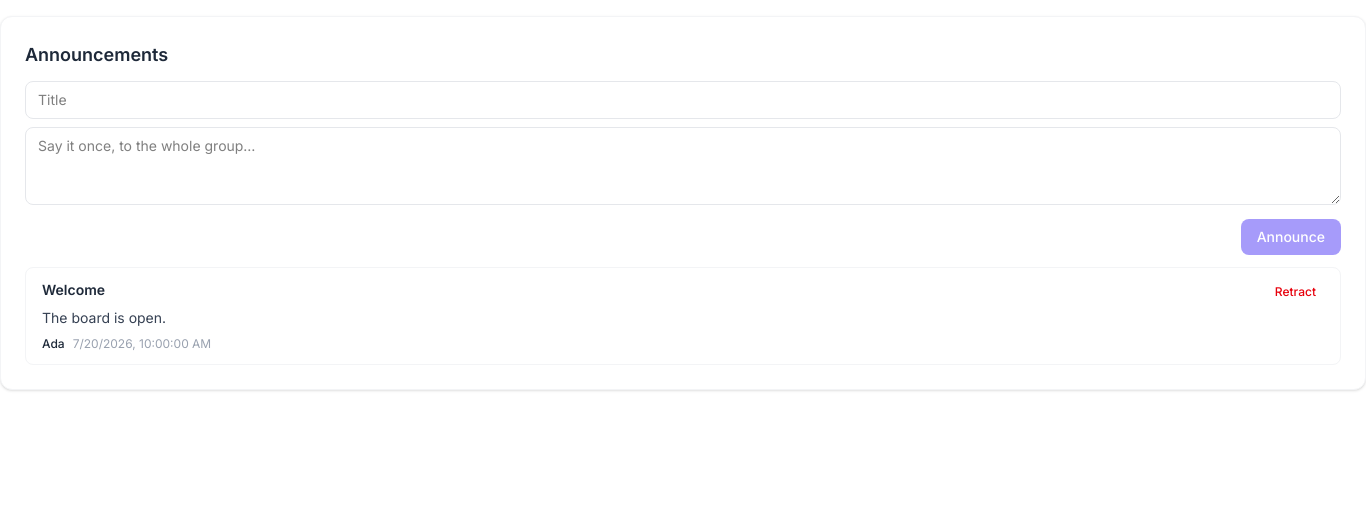
Test case: GroupAnnouncementsSection › sends and prepends the announcement from the confirmed response
The image size is (1366, 518).
expect the heading "Welcome" is shown: met, box [42, 280, 105, 300]
Step 1. Type "Fresh word" into the field with test id "announcement-compose-title" → [683, 100], box [25, 81, 1341, 119]
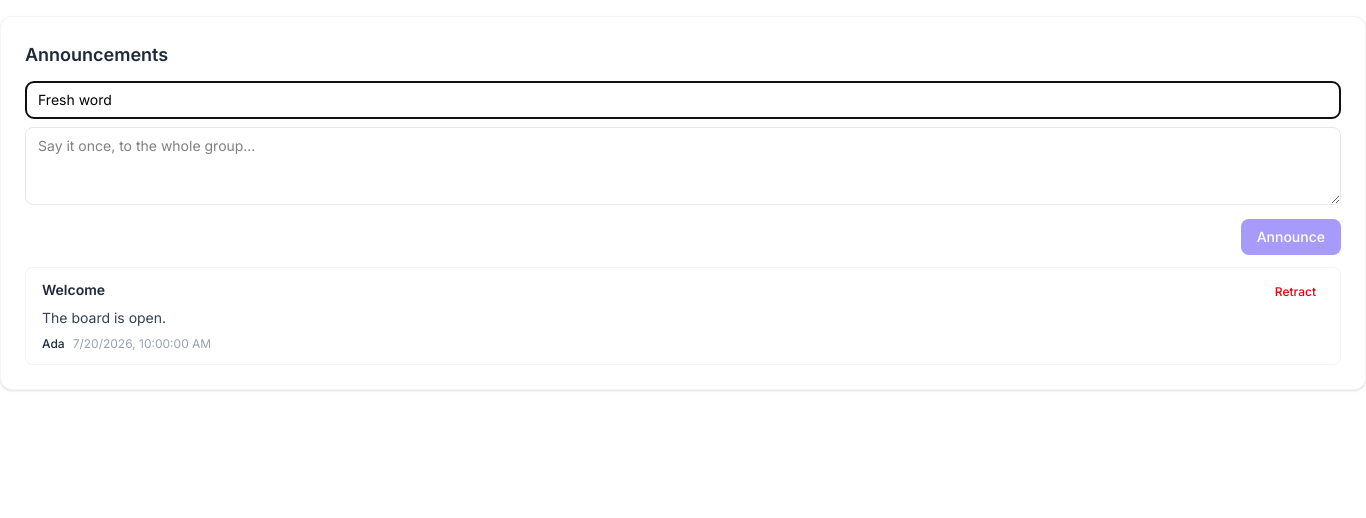
Step 2. Type "Just now." into the text box with test id "announcement-compose-body" → [683, 166], box [25, 127, 1341, 205]
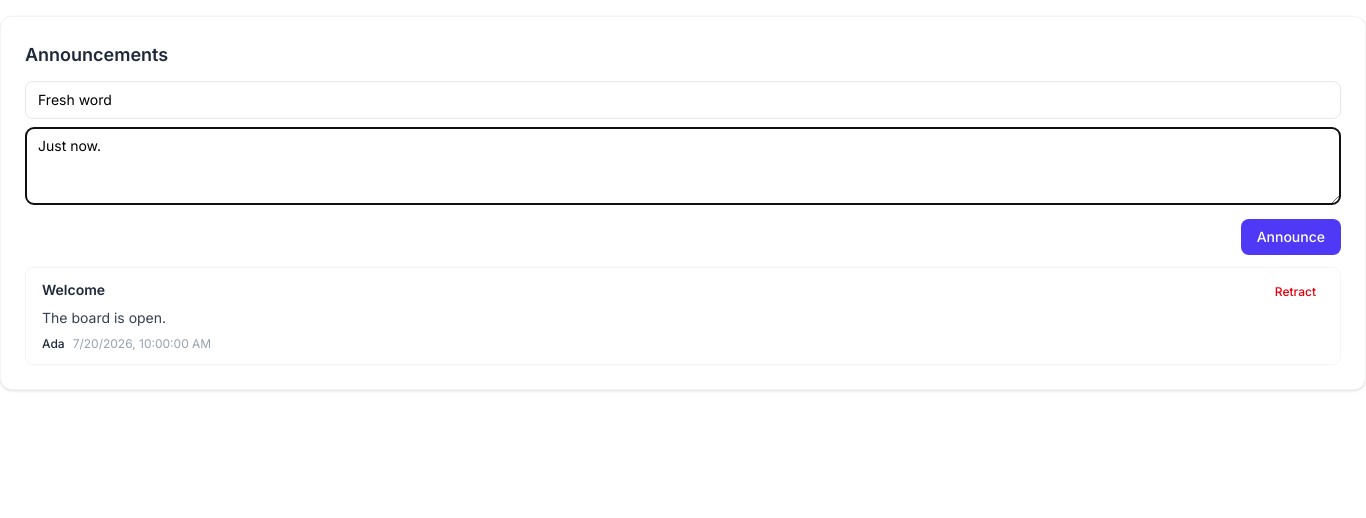
Step 3. Click the button with test id "announcement-send" → [1291, 237], box [1241, 219, 1341, 255]
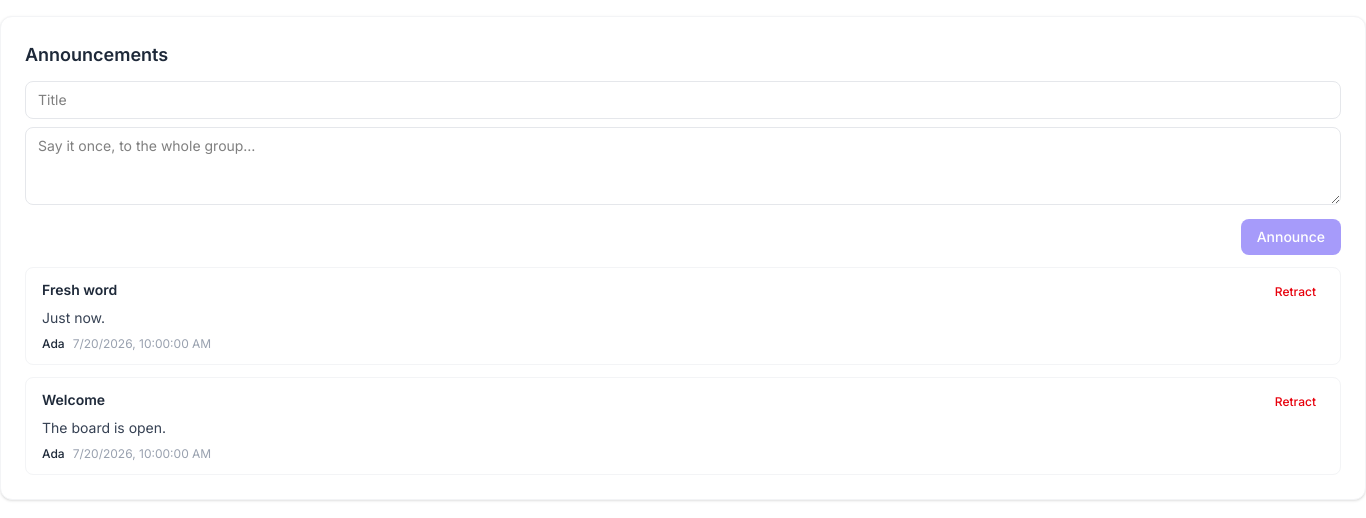
expect the heading "Fresh word" is shown: met, box [42, 280, 117, 300]
